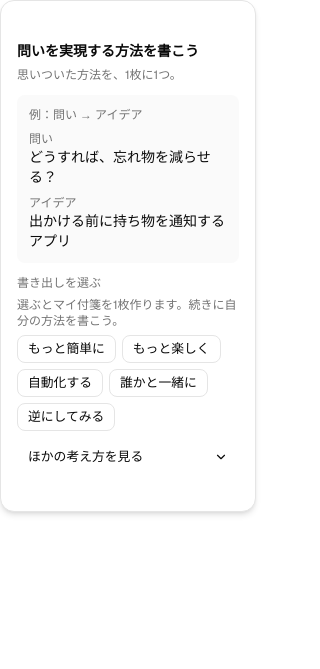
it: IdeaGuidePanel › 補足を開いたときだけ考え方の例を表示し、開閉では付箋を作らない
expect the text "最初の一歩だけ簡単にできない？" is not shown: met
expect the text "面倒な作業を自動化できない？" is not shown: met
Click the button "ほかの考え方を見る" at (128,457), box [17, 443, 239, 471]
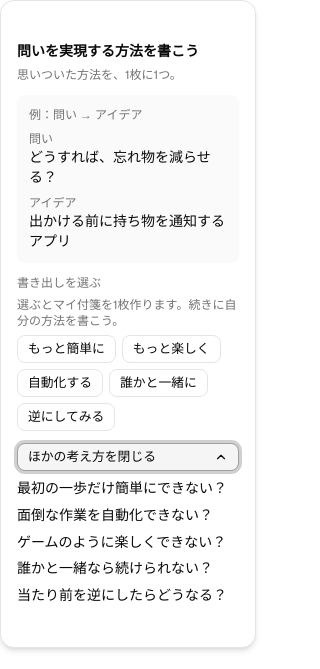
expect the button named "ほかの考え方を見る" is expanded: met
expect the list item "最初の一歩だけ簡単にできない？" is shown: met, box [17, 477, 239, 500]
expect the list item "面倒な作業を自動化できない？" is shown: met, box [17, 504, 239, 527]
Click the button named "ほかの考え方を見る" at (128,457), box [17, 443, 239, 471]
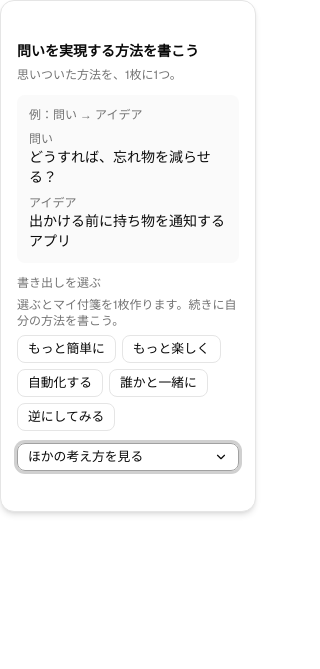
expect the button "ほかの考え方を見る" is collapsed: met, box [17, 443, 239, 471]
